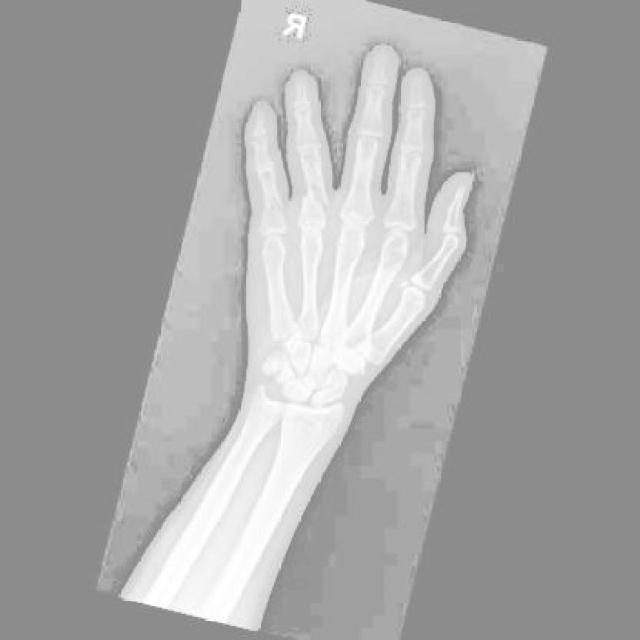bone: (257, 194, 290, 228), (299, 185, 330, 218)
